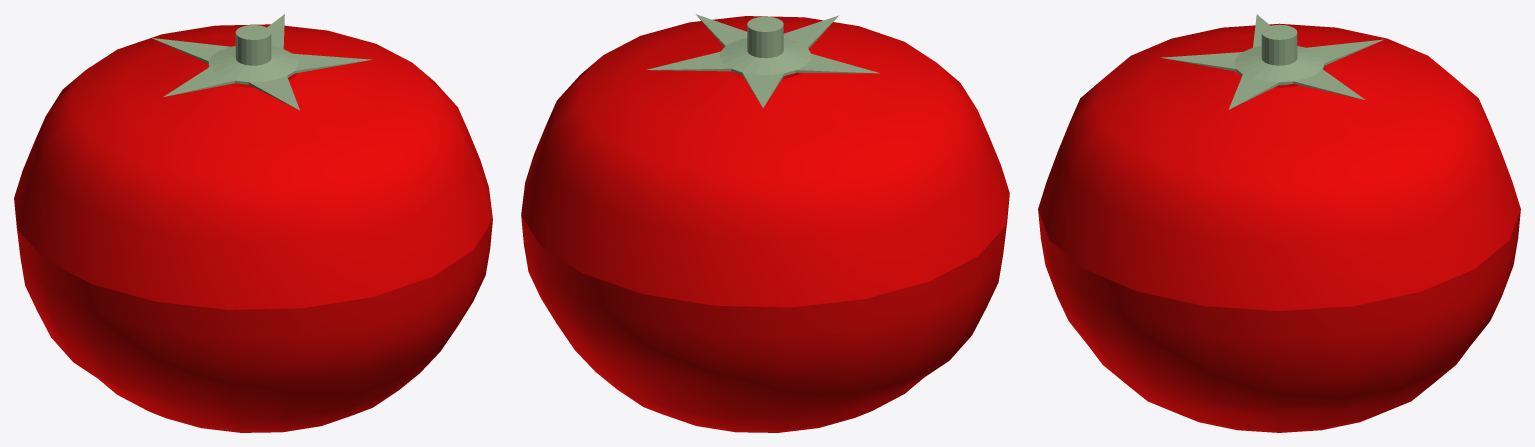
File: tomato.fbx
The picture shows the model from 3 angles, left to right: view 1: azimuth 30°, elevation 25°; view 2: azimuth 150°, elevation 25°; view 3: azimuth 270°, elevation 25°; orthographic projection. The views are drawn at different scales.
Visible parts, largest first — view 1: polySurface3; view 2: polySurface3; view 3: polySurface3.
Boxes of the visible parts, left/top/right/bottom form: polySurface3: left=14, top=14, right=492, bottom=432; polySurface3: left=521, top=14, right=1009, bottom=432; polySurface3: left=1038, top=14, right=1520, bottom=432.
Size of the model in its own units: 1.64 by 1.36 by 1.64.
